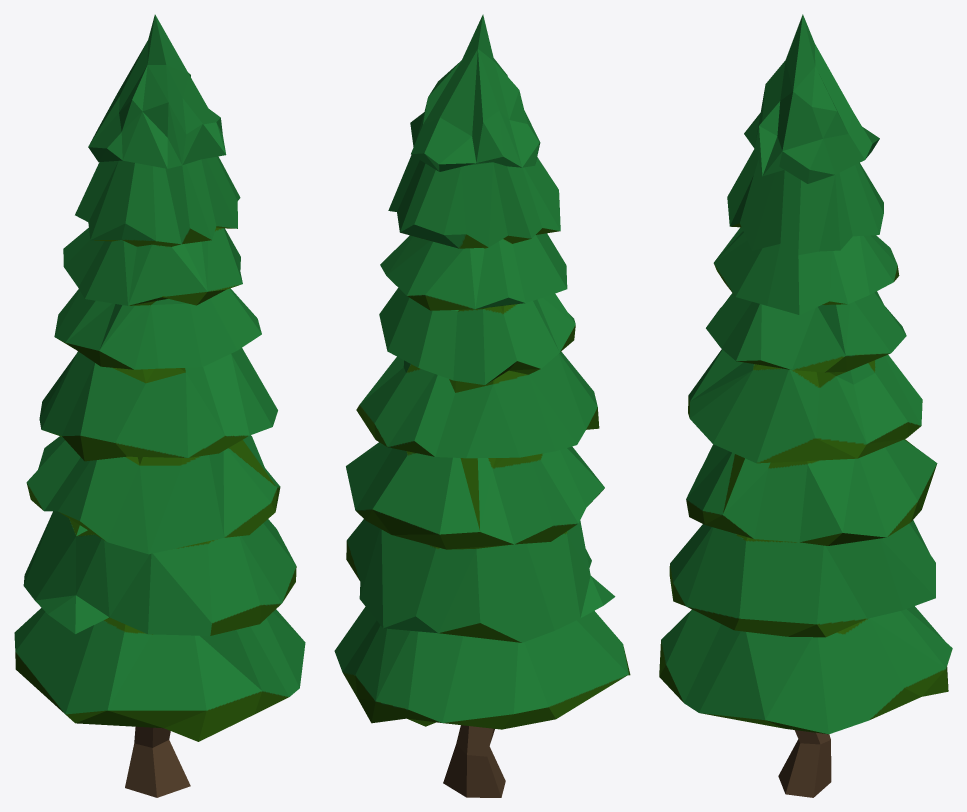
File: tree2.glb
3 views of the same model, side by side, from view 1: azimuth 30°, elevation 25°; view 2: azimuth 150°, elevation 25°; view 3: azimuth 270°, elevation 25° (orthographic).
Parts seen in each view (by area): view 1: _2_tree; view 2: _2_tree; view 3: _2_tree.
Part boxes in pixels (x1,y1,x2,y2): _2_tree: [14, 14, 305, 797]; _2_tree: [334, 14, 630, 797]; _2_tree: [659, 14, 952, 797].
Bounding box in the file's own units: 0.8524 × 2.49 × 0.8631.
Materials: 1 (1 with a texture image).
